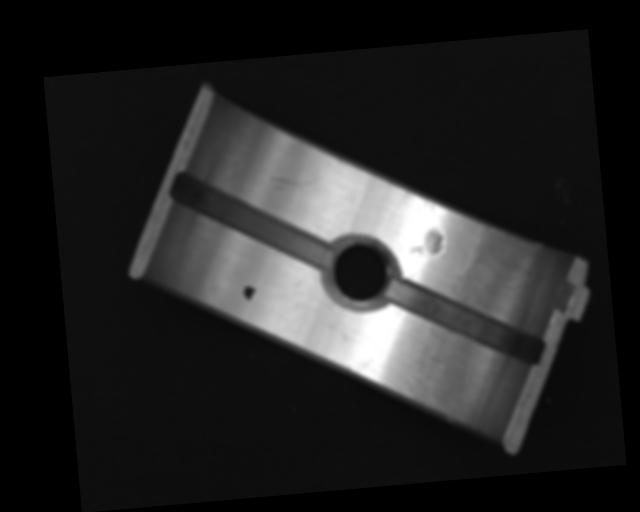blot: (242, 284, 257, 302)
bruise: (406, 227, 445, 258)
gap: (171, 160, 331, 282), (386, 268, 543, 376)
hole: (324, 232, 399, 314)
nick: (269, 171, 319, 192)
